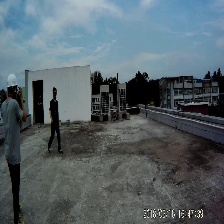helmet: (7, 73, 18, 87)
no-vest: (2, 94, 20, 161), (51, 97, 60, 131)
person: (4, 73, 26, 222), (49, 88, 64, 155)
